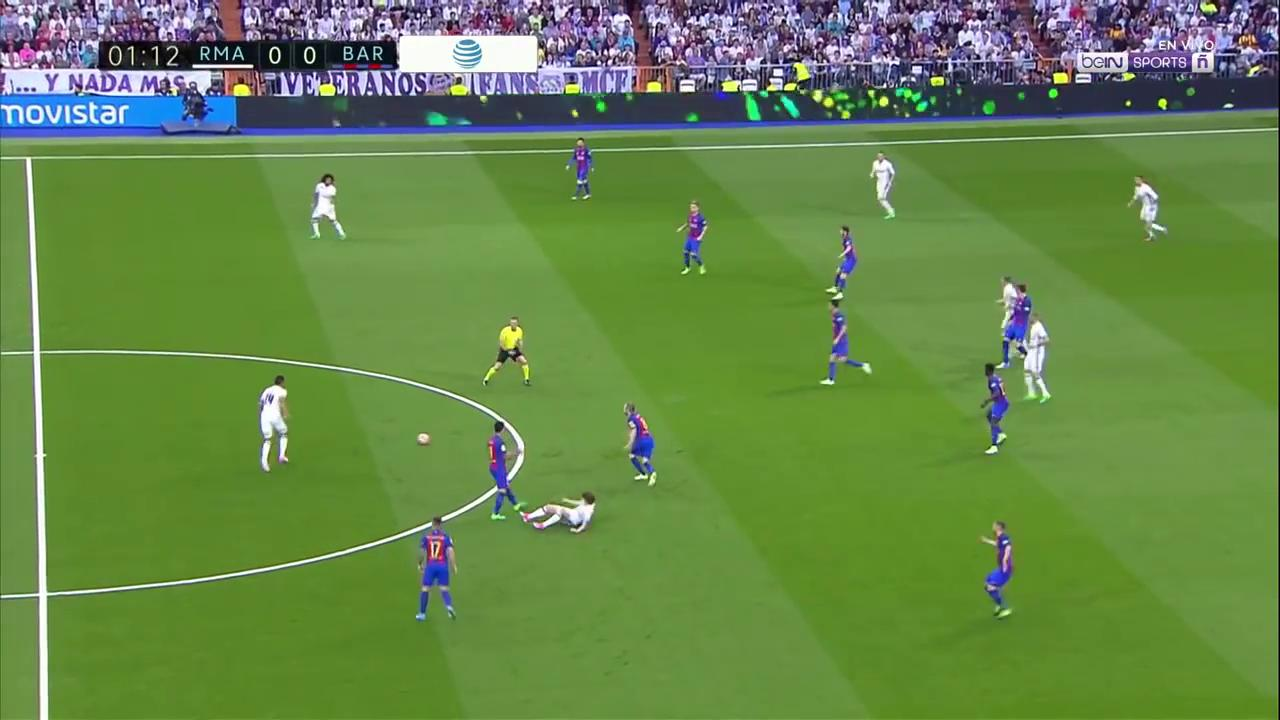ball: (416, 432, 432, 446)
player: (412, 514, 461, 626), (817, 297, 872, 388), (487, 417, 529, 526), (255, 370, 295, 480), (976, 516, 1016, 626), (619, 397, 664, 491), (520, 490, 597, 538), (306, 167, 350, 243), (1125, 172, 1170, 246), (997, 283, 1034, 370), (978, 362, 1010, 458), (674, 194, 709, 280), (825, 221, 859, 302), (868, 148, 902, 222), (563, 134, 598, 205), (1024, 313, 1051, 404), (995, 274, 1020, 332)
referee: (479, 312, 535, 389)
